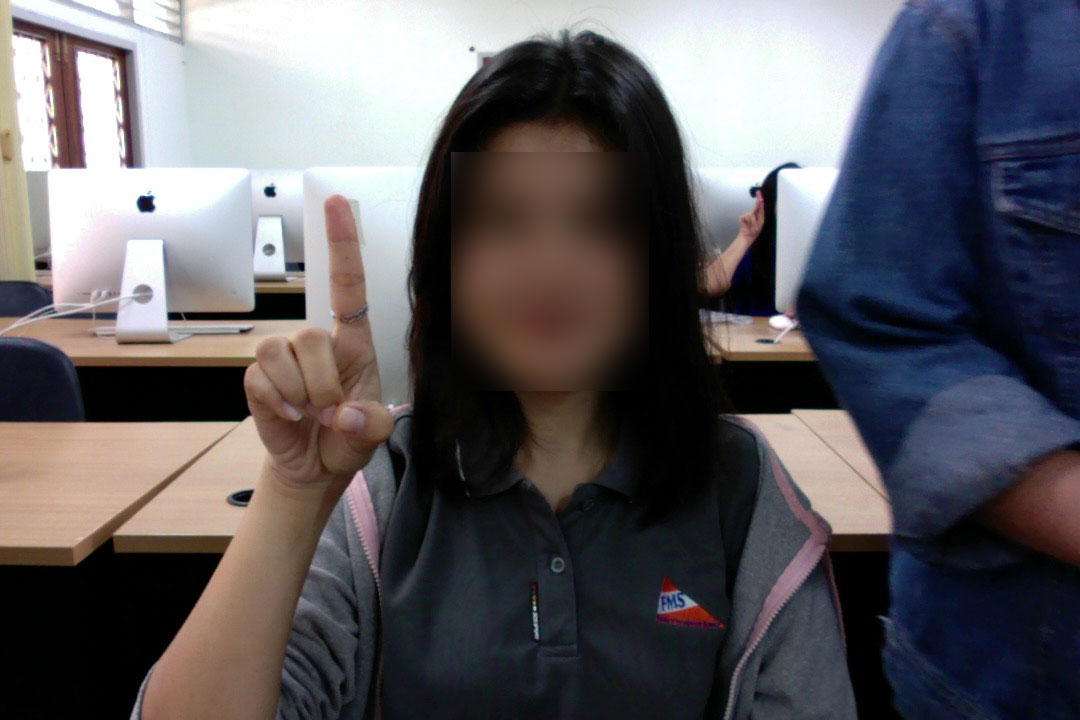dor: (233, 183, 399, 486)
